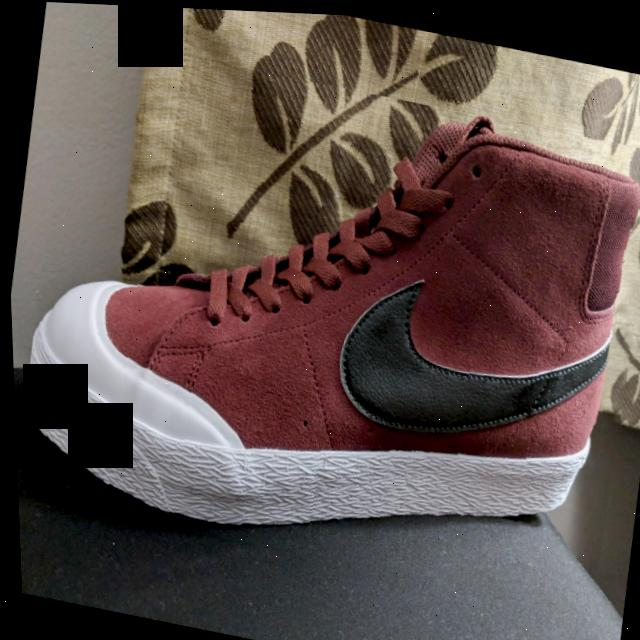shoe: (1, 30, 640, 614)
